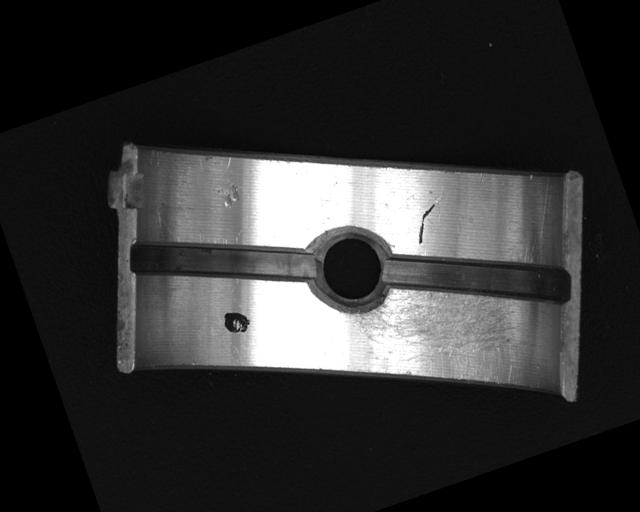blot: (220, 306, 254, 338)
bruise: (212, 177, 246, 212)
gap: (375, 203, 576, 356), (126, 193, 318, 333)
hole: (300, 218, 403, 322)
nick: (407, 201, 448, 247)
scratch: (343, 248, 538, 426)
